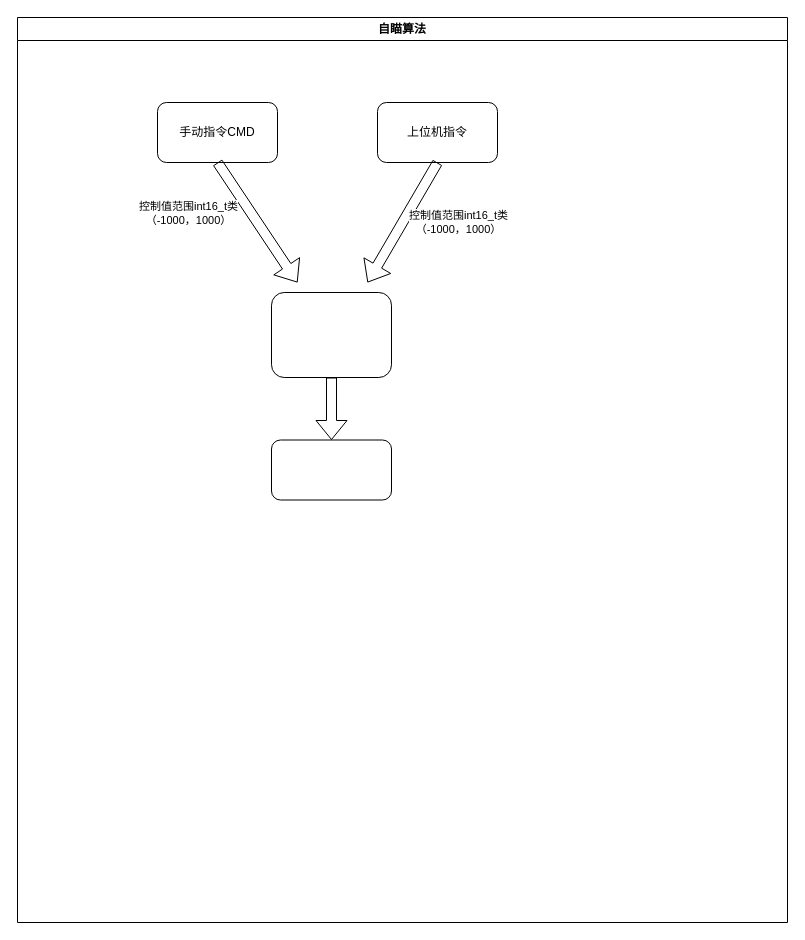
This 805x940 diagram has some shape labels left out. The centre of each missing label's shape, as x and y in pixels:
"权重算法" goes at (x=331, y=335).
"输出控制值（-1000，1000）" goes at (x=331, y=469).
